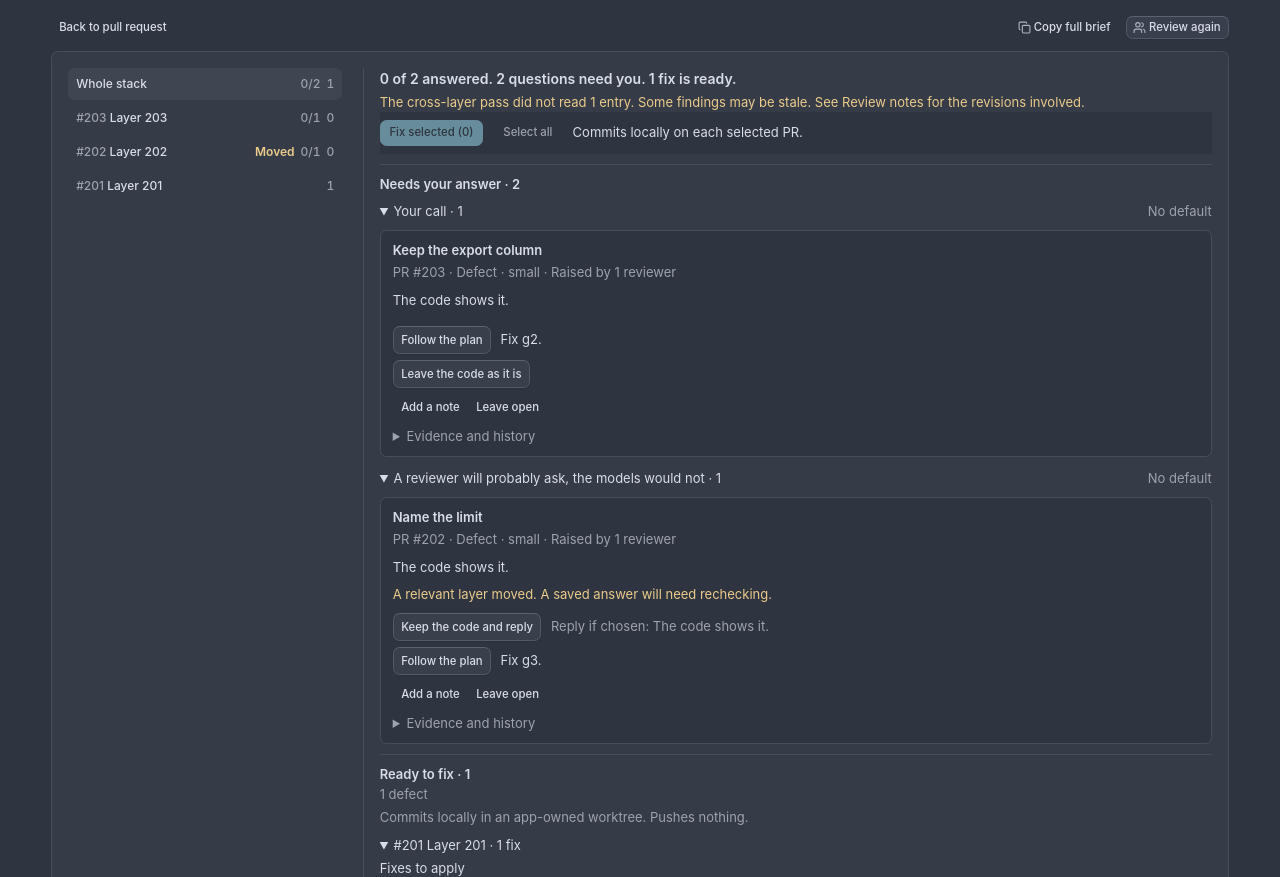
it: answers with a note, projects the chosen fix, and reopens the card
The width and height of the screenshot is (1280, 877).
Click the button "Add a note" below "Fix g2." at (430, 408), box [393,396,468,419]
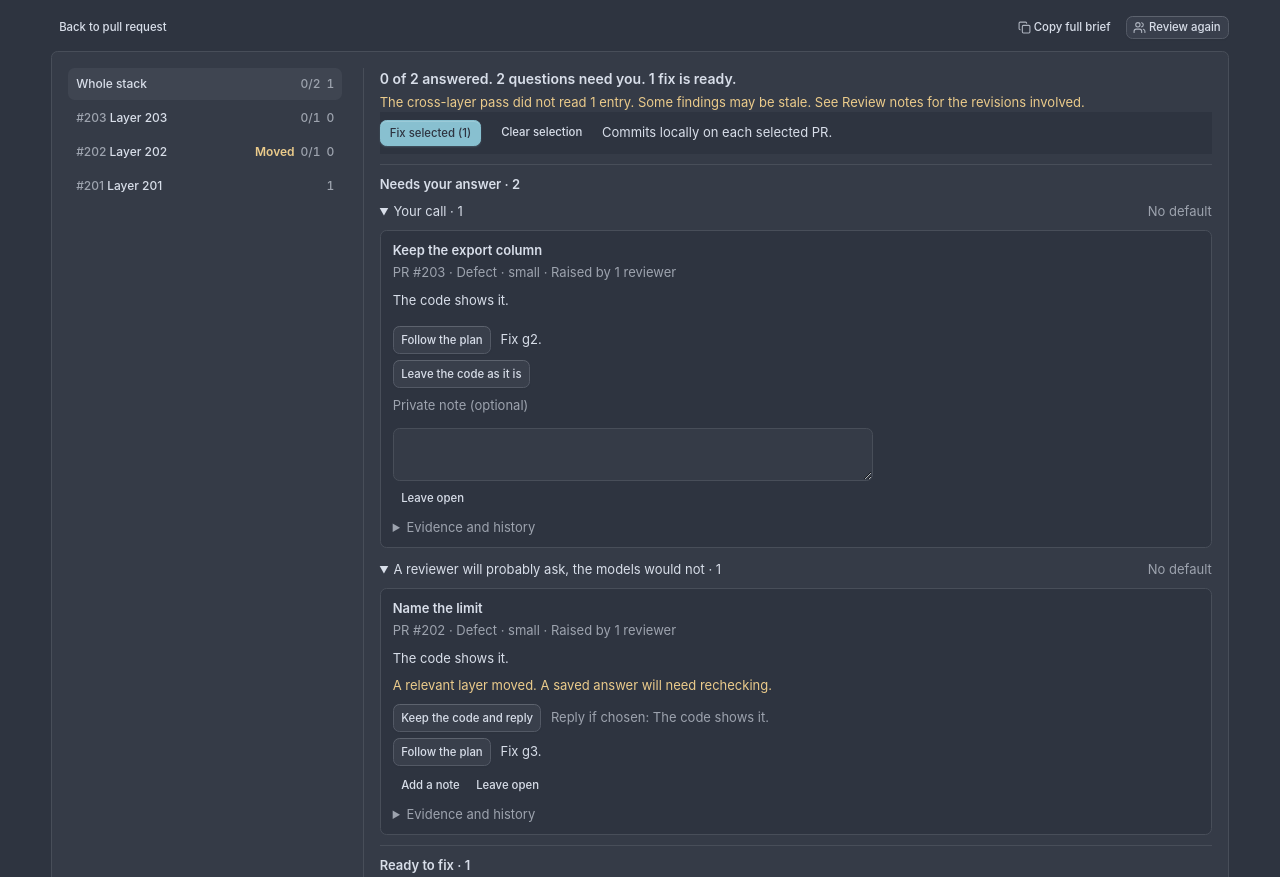
Type "Preserve the legacy export." into the text box labelled "Private note (optional)" at (633, 454), box [393,428,873,481]
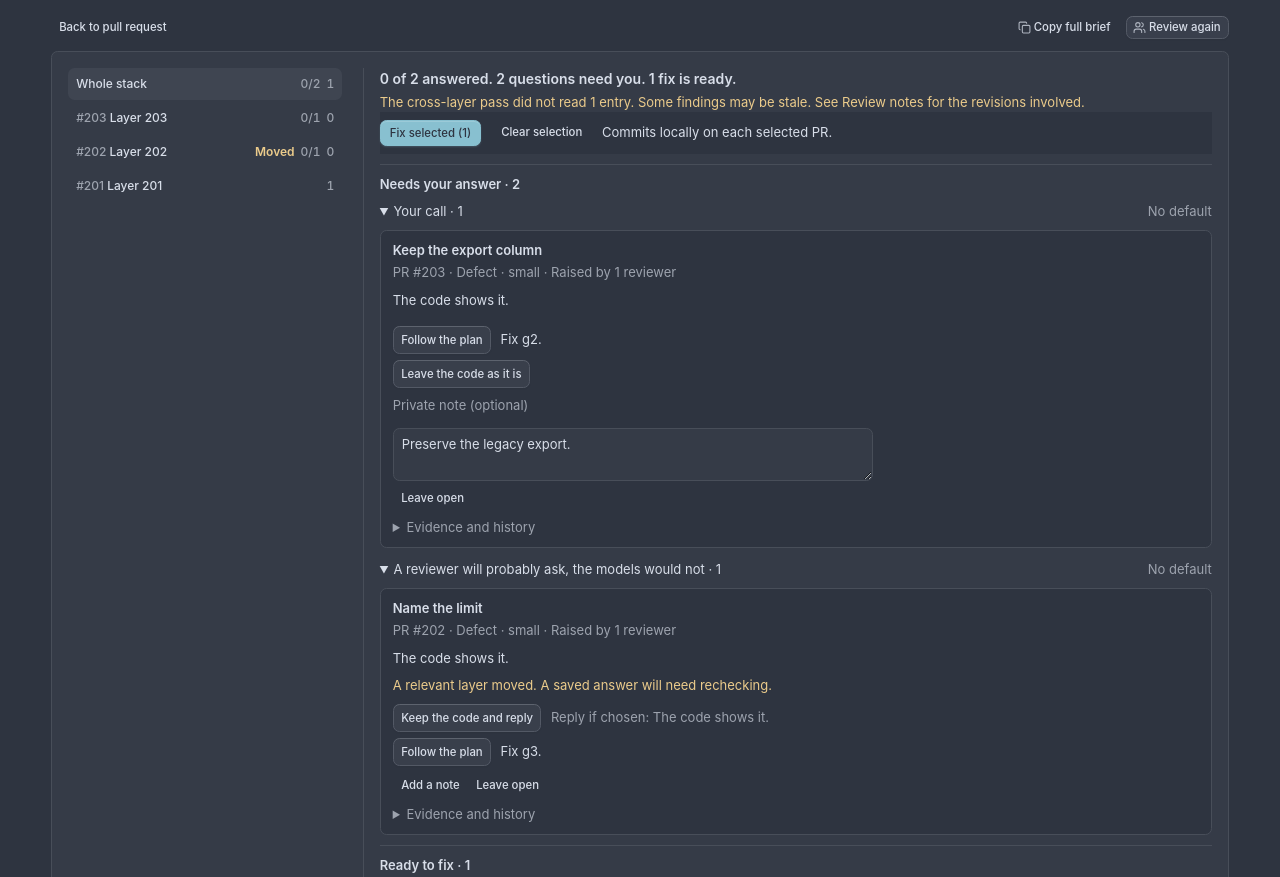
Click the button "Follow the plan" next to "Fix g2." at (442, 340), box [393,326,490,354]
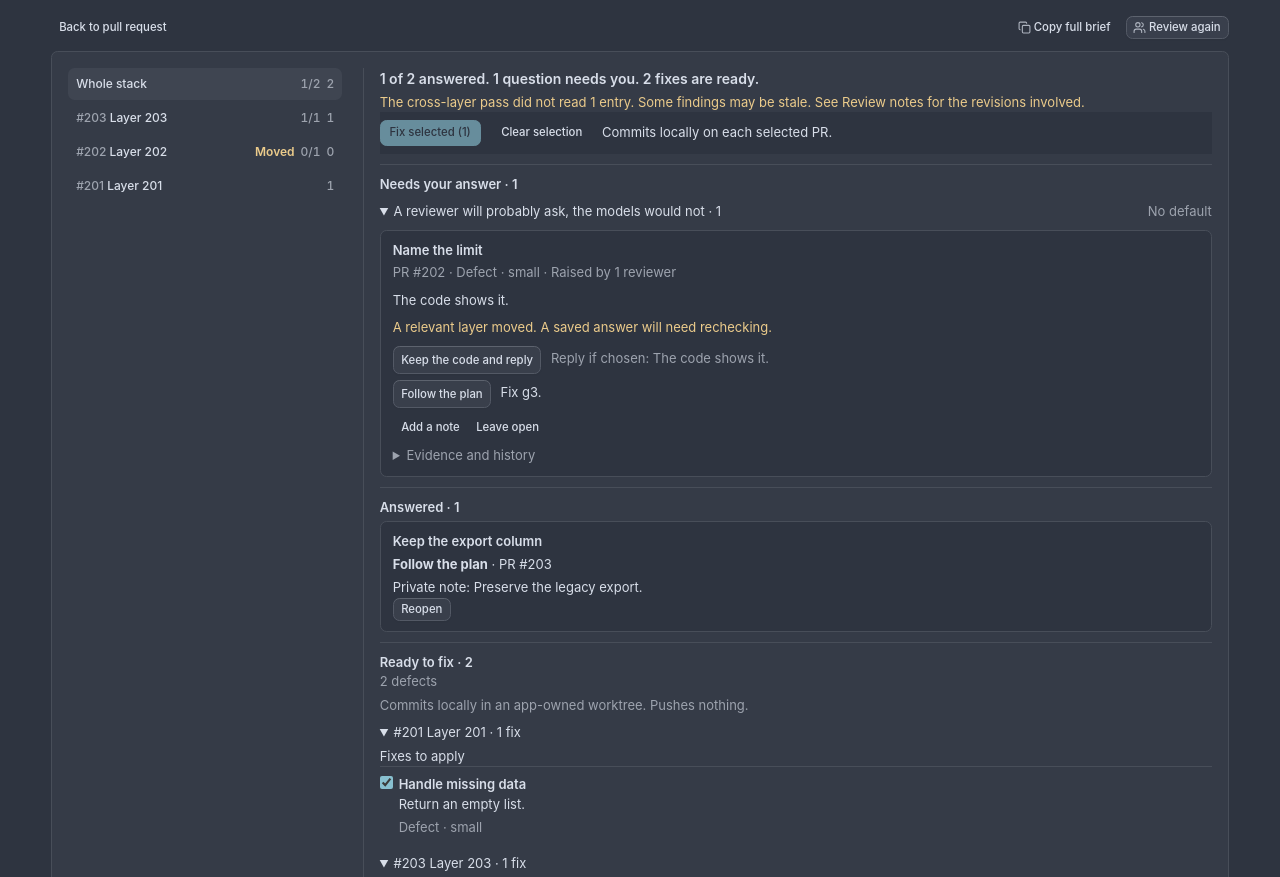
expect the text "Private note: Preserve the legacy export." is shown: met, box [393,579,643,595]
expect the heading "#203 Layer 203 · 1 fix" is shown: met, box [393,855,526,871]
Click the button "Reopen" at (421, 609), box [393,598,450,621]
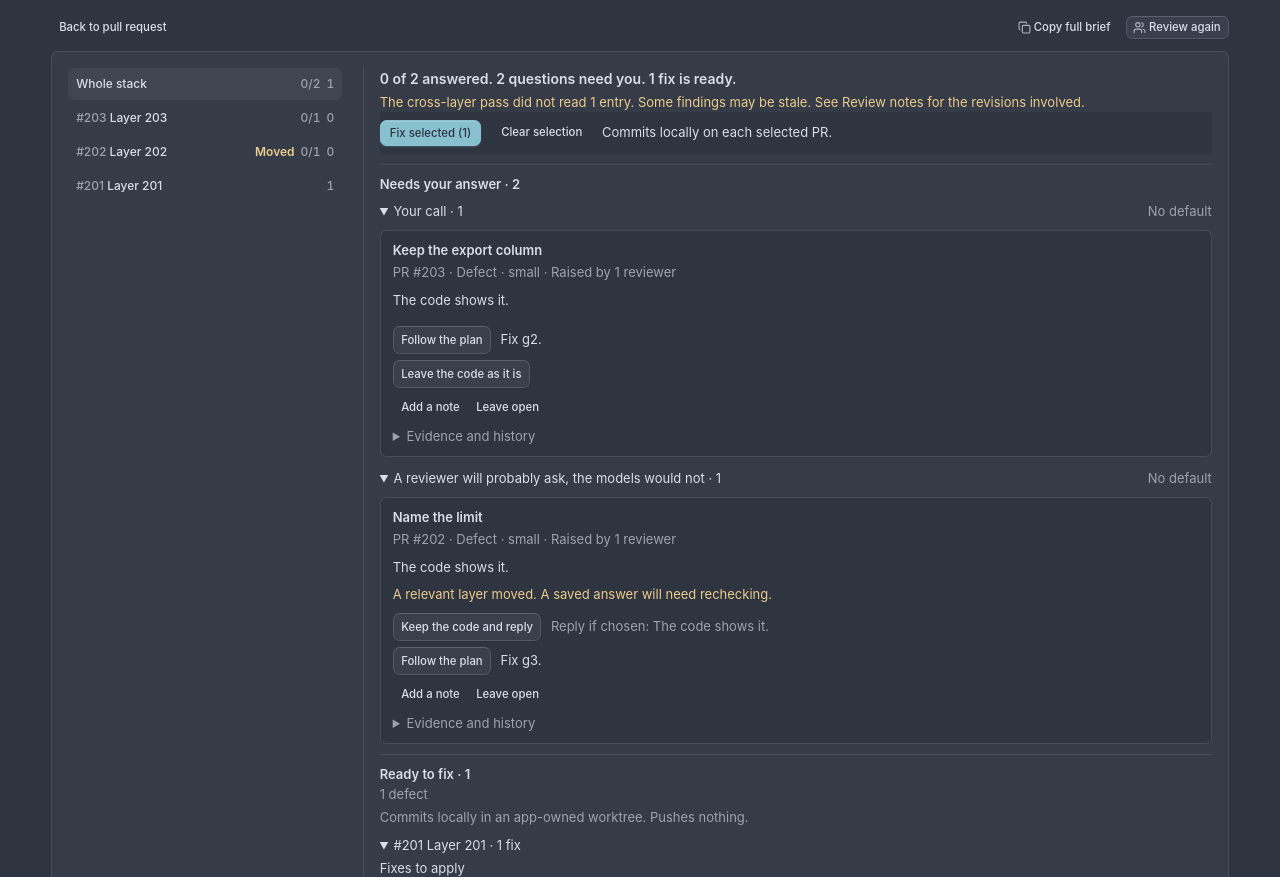
expect the heading "Needs your answer · 2" is shown: met, box [380,176,520,192]
expect the heading "#203 Layer 203 · 1 fix" is gone: met
